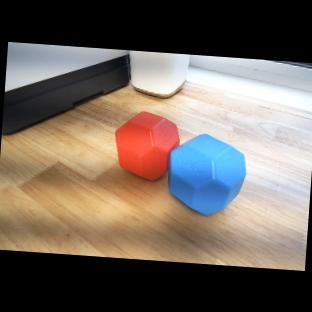V5_BLUE: (167, 131, 248, 217)
V5_RED: (111, 107, 172, 183)
pieces: (106, 103, 254, 222)
